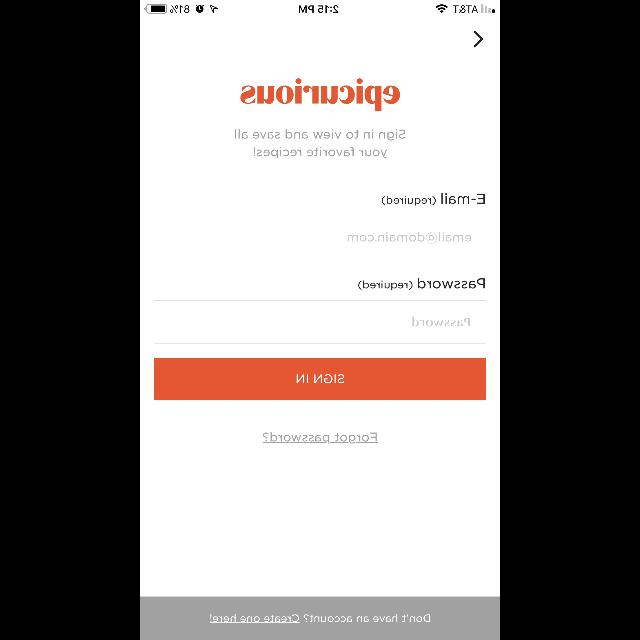icon: (473, 30, 483, 48)
input: (154, 301, 486, 344), (154, 217, 486, 260)
text: (240, 78, 400, 112), (234, 130, 406, 158), (358, 278, 484, 290), (348, 232, 470, 244), (382, 192, 484, 205), (262, 432, 378, 443), (412, 317, 470, 327)
textbutton: (140, 596, 500, 640), (154, 358, 486, 400)
uppertaskbar: (140, 0, 500, 14)
